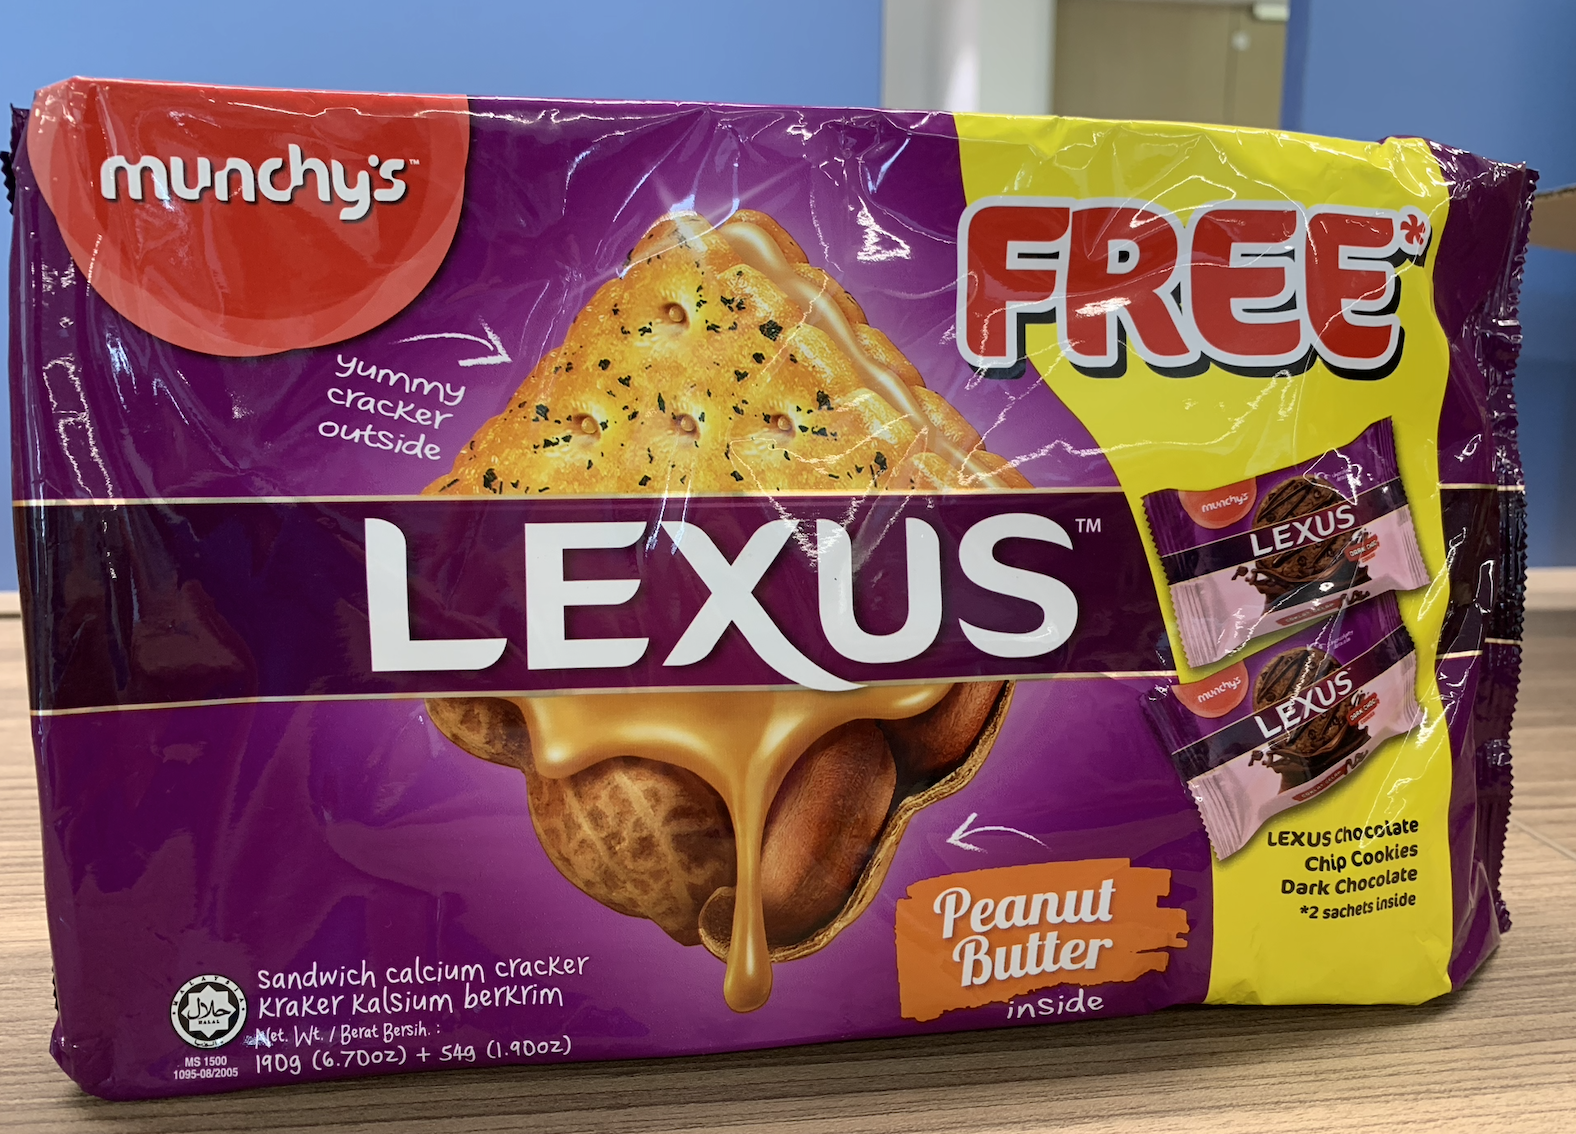cookies_150g: (67, 128, 1452, 1068)
